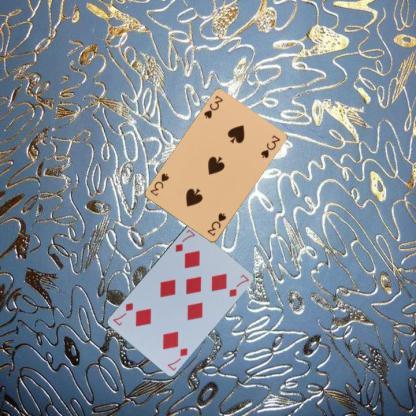3s: (204, 210, 228, 238), (201, 93, 224, 120)
7d: (164, 345, 190, 372), (173, 226, 196, 254)
